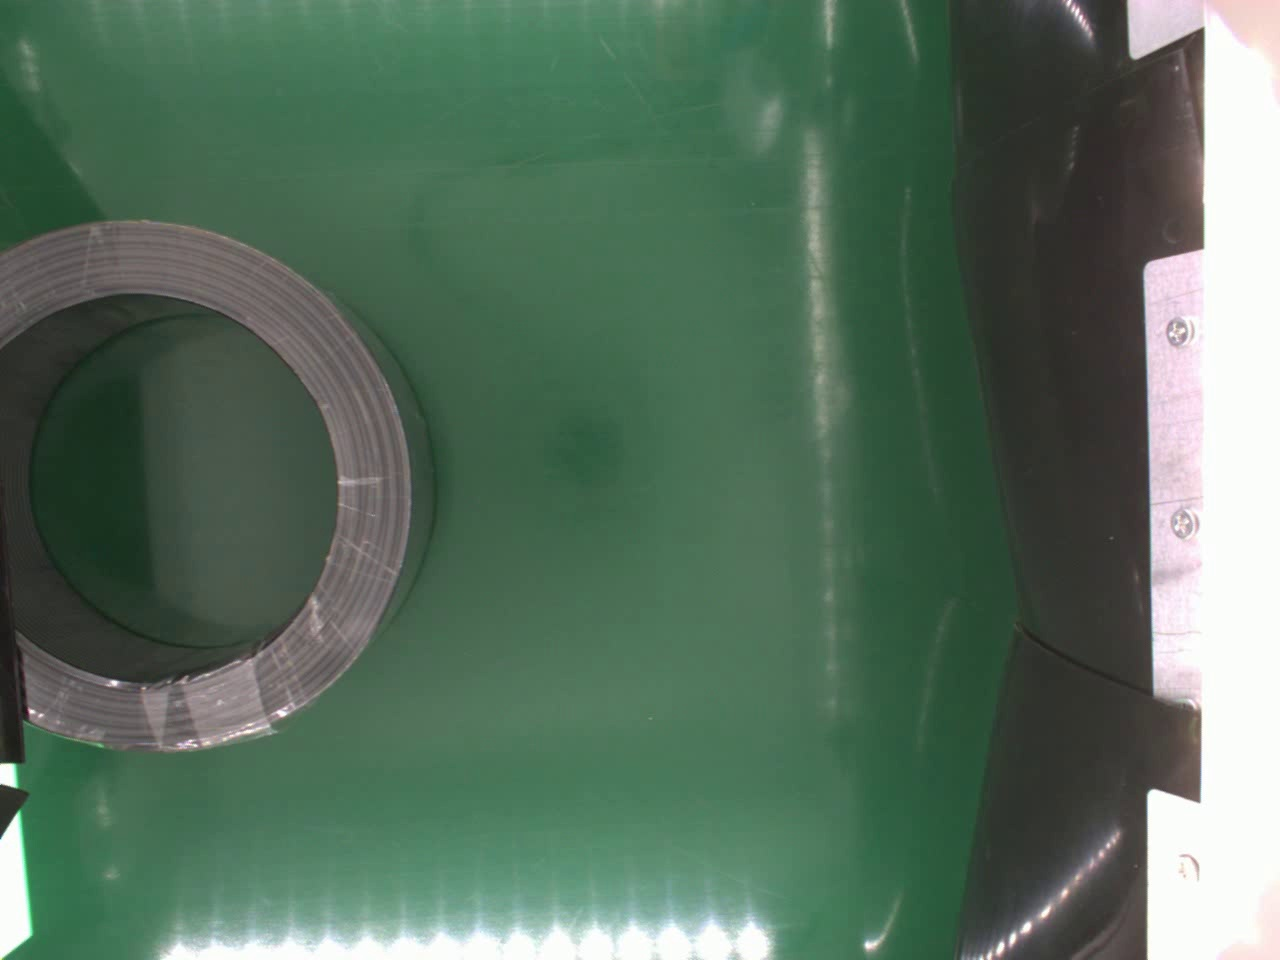black: (0, 217, 440, 750)
